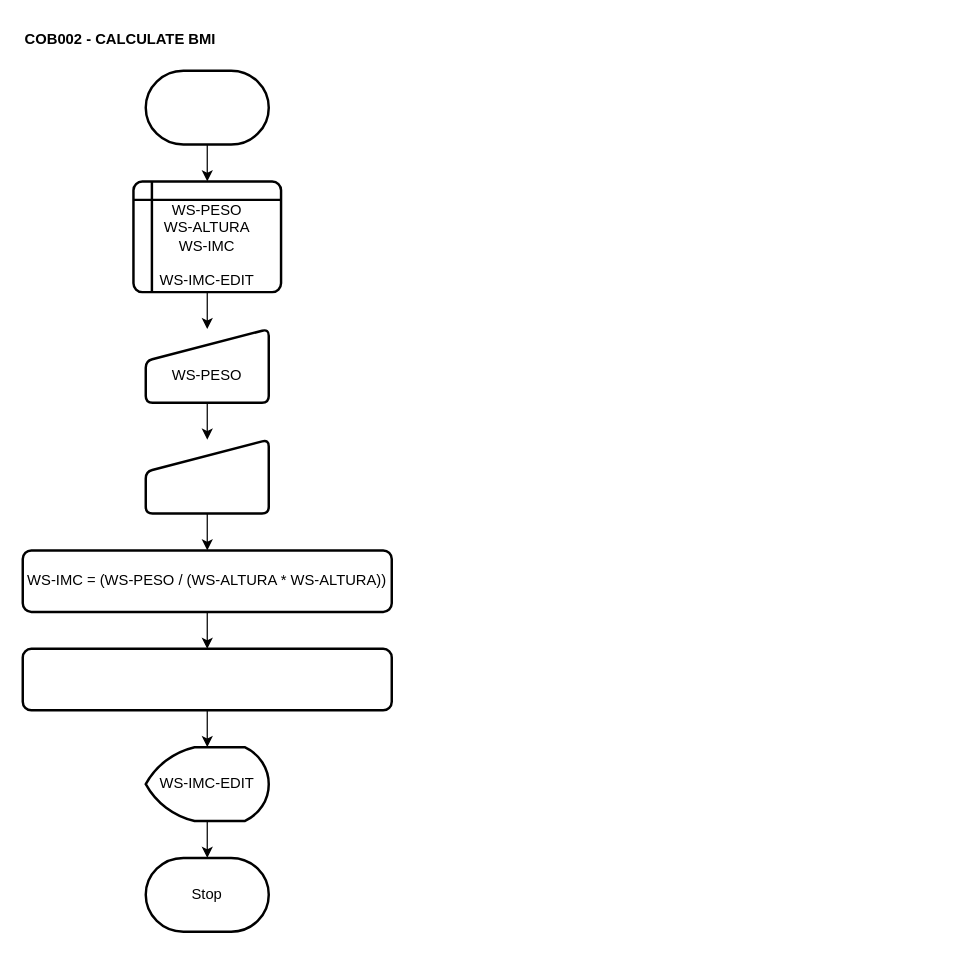
Some shapes in this 978 by 953 pixel diagram are drawn without their labels. Here are the shapes that lost their labels. From the top down, the box of each, then its label:
(144, 69, 269, 145): Start
(144, 438, 269, 514): WS-ALTURA
(21, 647, 392, 711): WS-IMC-EDIT = WS-IMC
